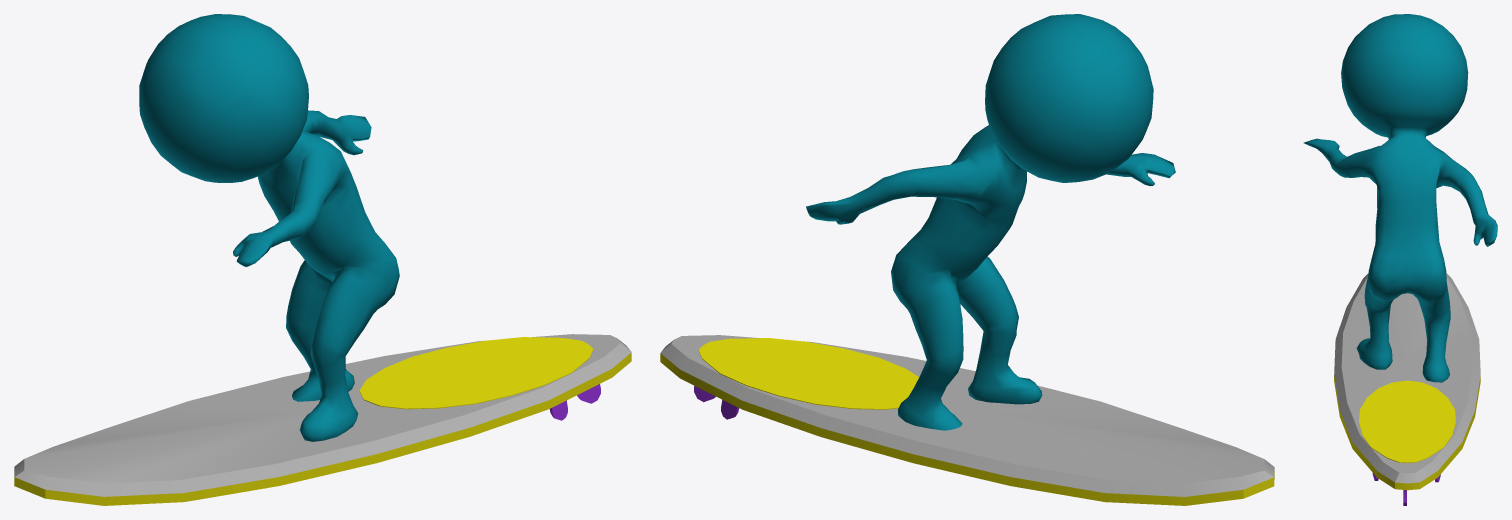
File: serf.fbx
3 views of the same model, side by side, from view 1: azimuth 30°, elevation 25°; view 2: azimuth 150°, elevation 25°; view 3: azimuth 270°, elevation 25° (orthographic). The views are drawn at different scales.
Parts seen in each view (by area): view 1: polySurface2396; view 2: polySurface2396; view 3: polySurface2396.
Part boxes in pixels (<box>): polySurface2396: <box>14,14,631,505</box>; polySurface2396: <box>660,14,1274,505</box>; polySurface2396: <box>1303,14,1497,505</box>.
Bounding box in the file's own units: 247 × 182 × 91.06.
